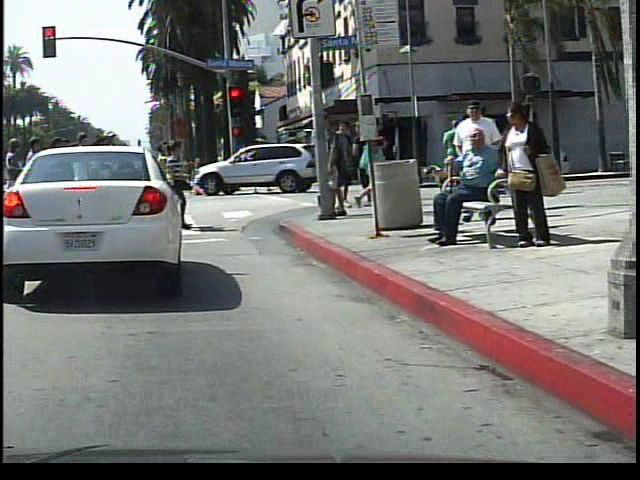person: (419, 129, 506, 257), (490, 100, 557, 257), (342, 113, 390, 213), (239, 146, 264, 197)
